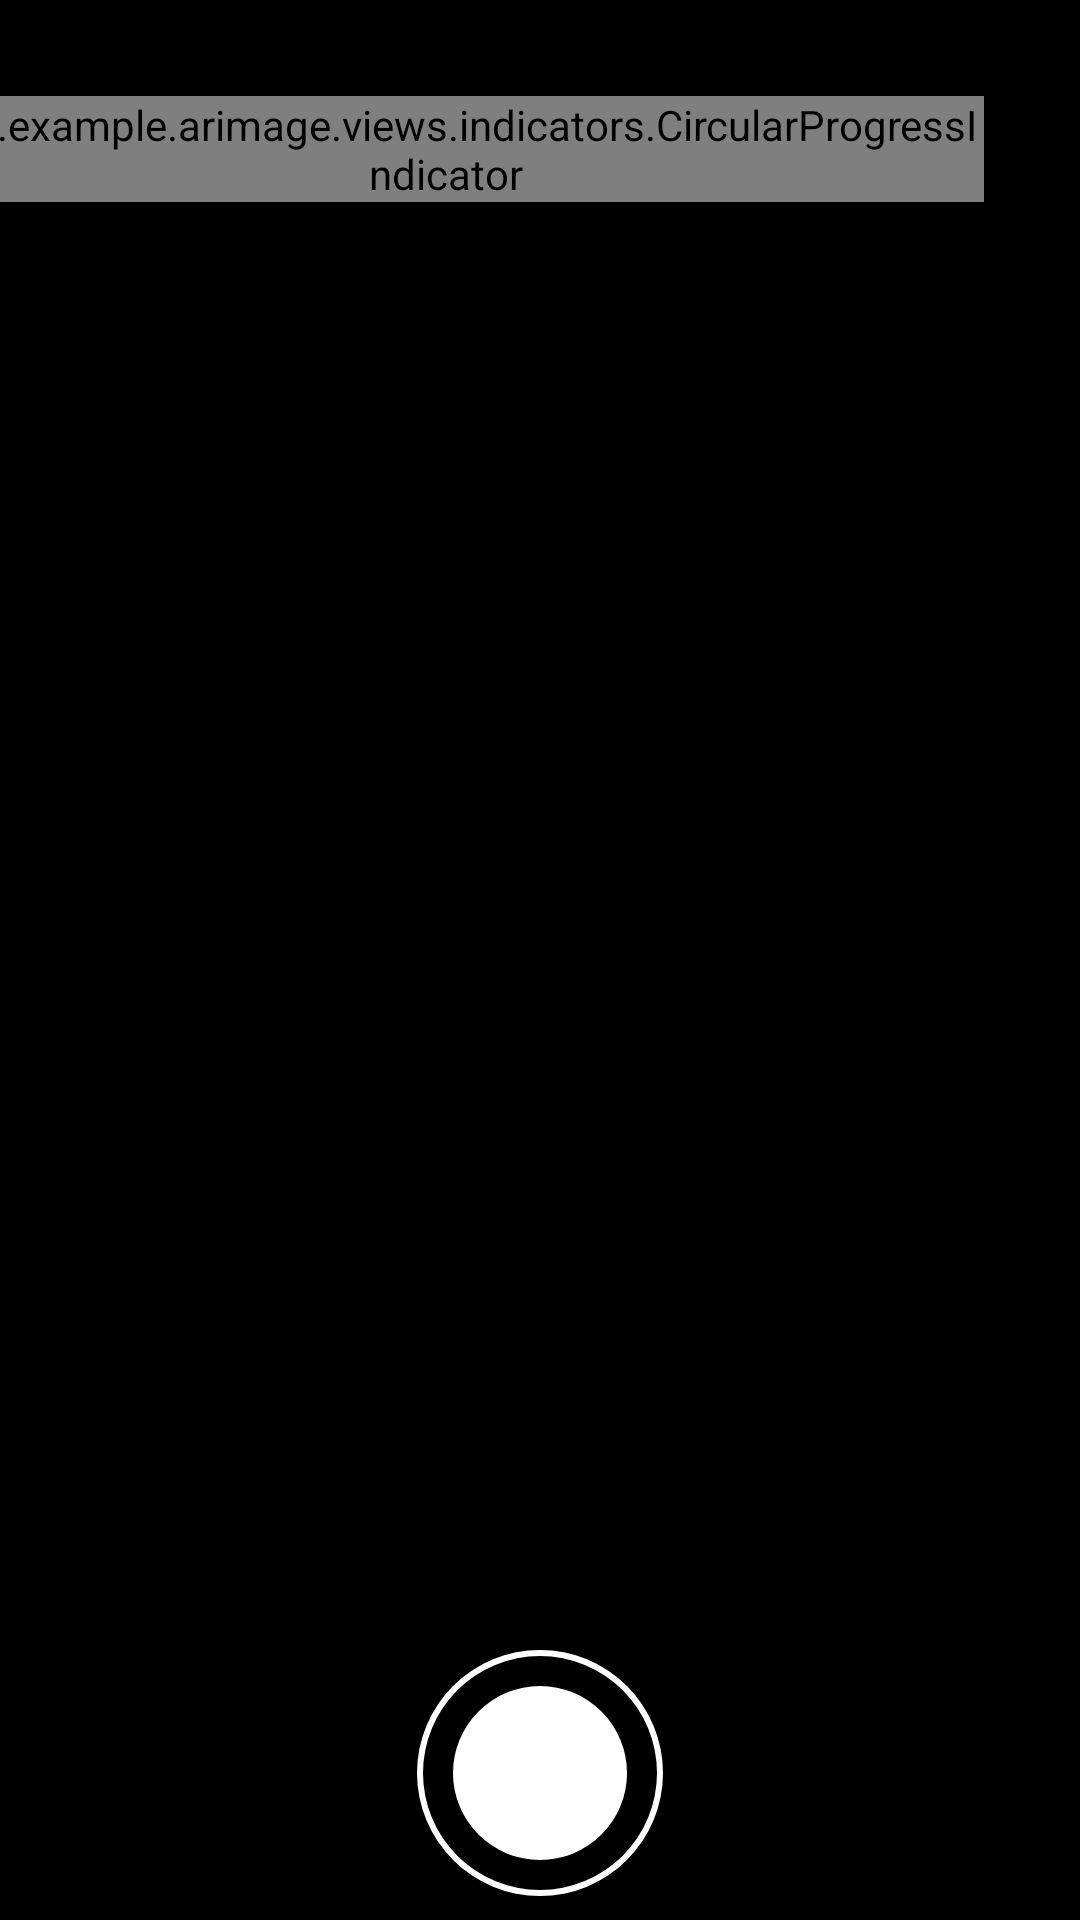

Locate icon controls on the screen. Image size 1080×1920, boxes as [left=x1, top=y1, right=x2, bottom=y2].
Record video: [left=417, top=1650, right=663, bottom=1896]
